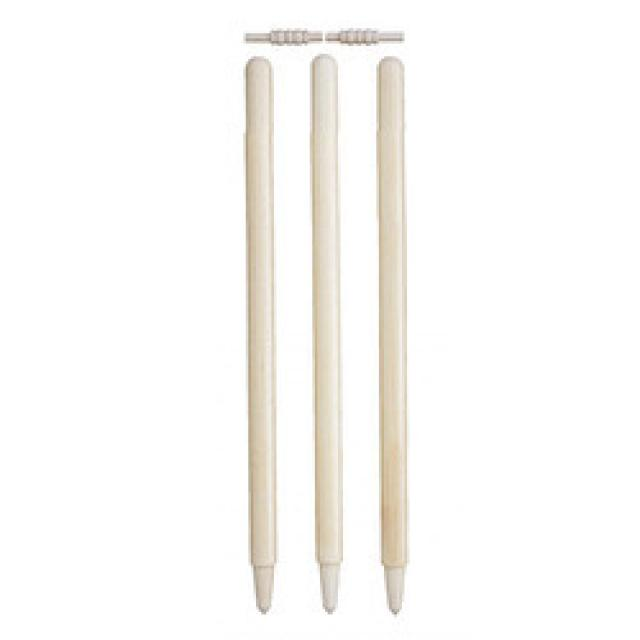stump: (244, 29, 409, 614)
